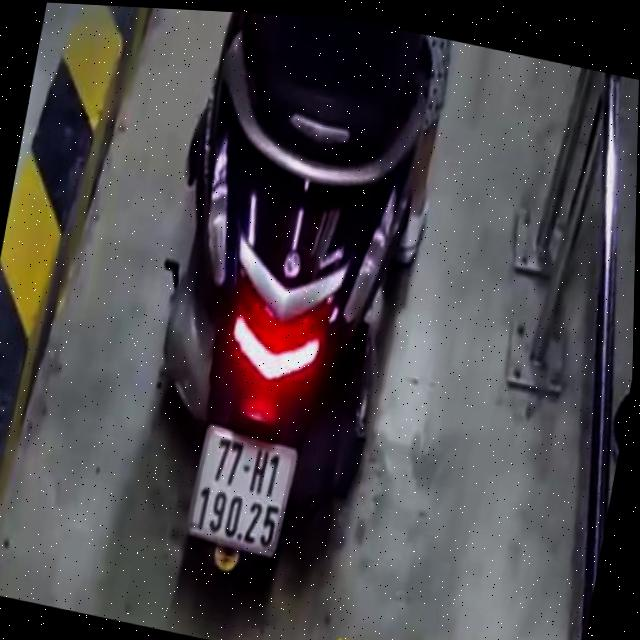motorcycle: (102, 6, 444, 640)
plate: (174, 413, 312, 571)
